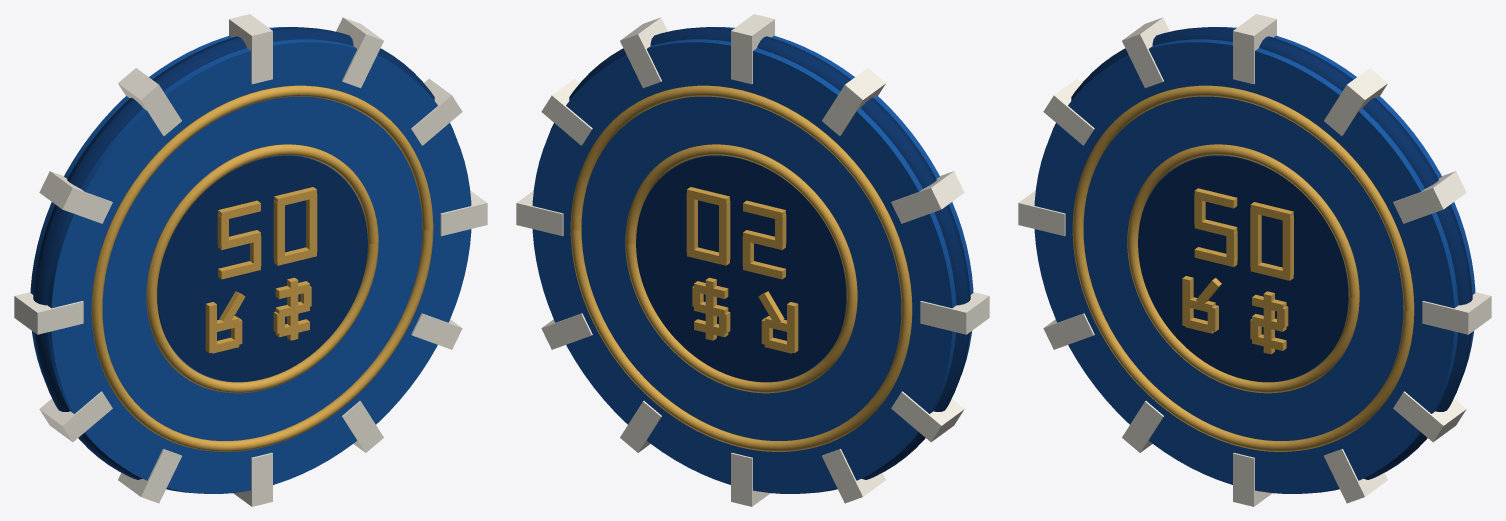
The model's file is azul-20.glb.
The picture shows the model from 3 angles, left to right: view 1: azimuth 30°, elevation 25°; view 2: azimuth 150°, elevation 25°; view 3: azimuth 330°, elevation 25°; orthographic projection.
Parts seen in each view (by area): view 1: Corpo_Azul, Centro_1, Anel_Dourado_1_1.18, Anel_Dourado_1_0.79, Borda_Externa, Inserto_7, Inserto_9, Inserto_10, Inserto_8, Inserto_6, Inserto_11, Inserto_5 (+7 smaller); view 2: Corpo_Azul, Centro_-1, Anel_Dourado_-1_1.18, Anel_Dourado_-1_0.79, Borda_Externa, Inserto_7, Inserto_9, Inserto_10, Inserto_8, Inserto_6, Inserto_11, Inserto_5 (+7 smaller); view 3: Corpo_Azul, Centro_1, Anel_Dourado_1_1.18, Anel_Dourado_1_0.79, Borda_Externa, Inserto_1, Inserto_11, Inserto_10, Inserto_12, Inserto_2, Inserto_9, Inserto_3 (+6 smaller).
Boxes of the visible parts, x1,y1,x2,y2 form: Corpo_Azul: (30,27,471,493); Centro_1: (157,155,367,381); Anel_Dourado_1_1.18: (91,85,433,451); Anel_Dourado_1_0.79: (146,144,378,393); Borda_Externa: (33,27,455,493); Inserto_7: (14,292,83,334); Inserto_9: (118,68,181,135); Inserto_10: (229,14,272,84); Inserto_8: (39,171,112,223); Inserto_6: (39,391,112,442); Inserto_11: (336,17,383,88); Inserto_5: (118,449,181,503); Corpo_Azul: (532,27,973,493); Centro_-1: (636,155,846,381); Anel_Dourado_-1_1.18: (570,85,912,451); Anel_Dourado_-1_0.79: (625,144,857,393); Borda_Externa: (548,27,970,493); Inserto_7: (920,292,989,334); Inserto_9: (822,68,885,135); Inserto_10: (731,14,774,84); Inserto_8: (891,171,964,223); Inserto_6: (891,391,964,442); Inserto_11: (620,17,667,88); Inserto_5: (822,449,885,503); Corpo_Azul: (1034,27,1475,493); Centro_1: (1138,155,1348,381); Anel_Dourado_1_1.18: (1072,85,1414,451); Anel_Dourado_1_0.79: (1127,144,1359,393); Borda_Externa: (1050,27,1472,493); Inserto_1: (1422,292,1491,334); Inserto_11: (1324,68,1387,135); Inserto_10: (1233,14,1276,84); Inserto_12: (1393,171,1466,223); Inserto_2: (1393,391,1466,442); Inserto_9: (1122,17,1169,88); Inserto_3: (1324,449,1387,503).
Bounding box in the file's own units: 3.21 × 3.21 × 0.385.
